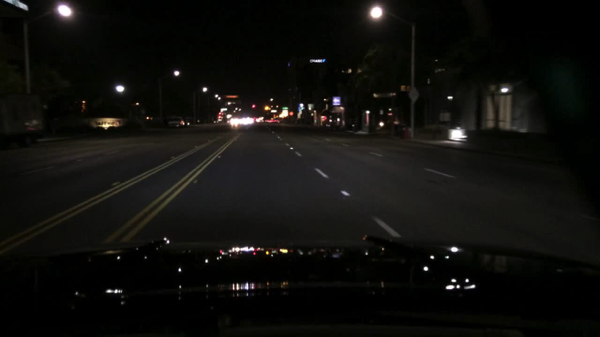car: (168, 116, 184, 128), (228, 119, 240, 126), (184, 116, 190, 129), (255, 117, 264, 124), (272, 118, 281, 125)
traffic light: (250, 103, 256, 109)
traffic sign: (6, 1, 30, 12), (408, 86, 420, 103), (331, 96, 342, 106), (400, 86, 412, 92), (288, 111, 295, 118)
truck: (0, 92, 44, 147)
